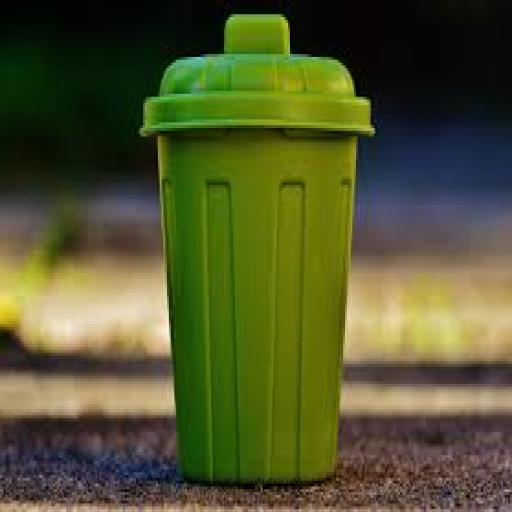poubelle_vide: (132, 0, 384, 508)
